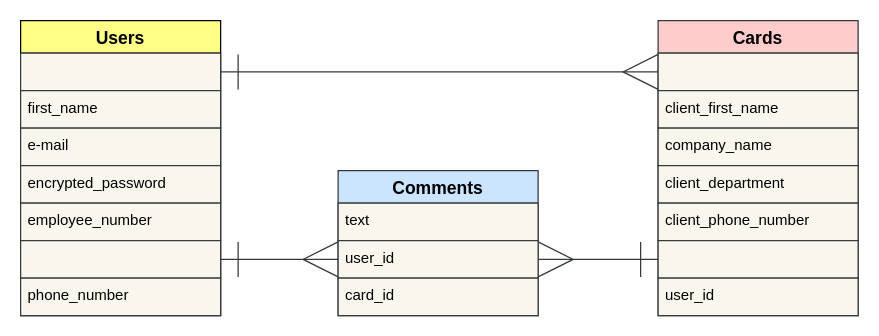
The diagram is 879 pixels wide and 336 high, and some of its shapes have lost their labels. Here are the shapes that lost their labels. From the top down, the centre of each, then its label:
the point at 120,71: last_name
the point at 757,71: client_last_name
the point at 120,258: department
the point at 757,258: description
